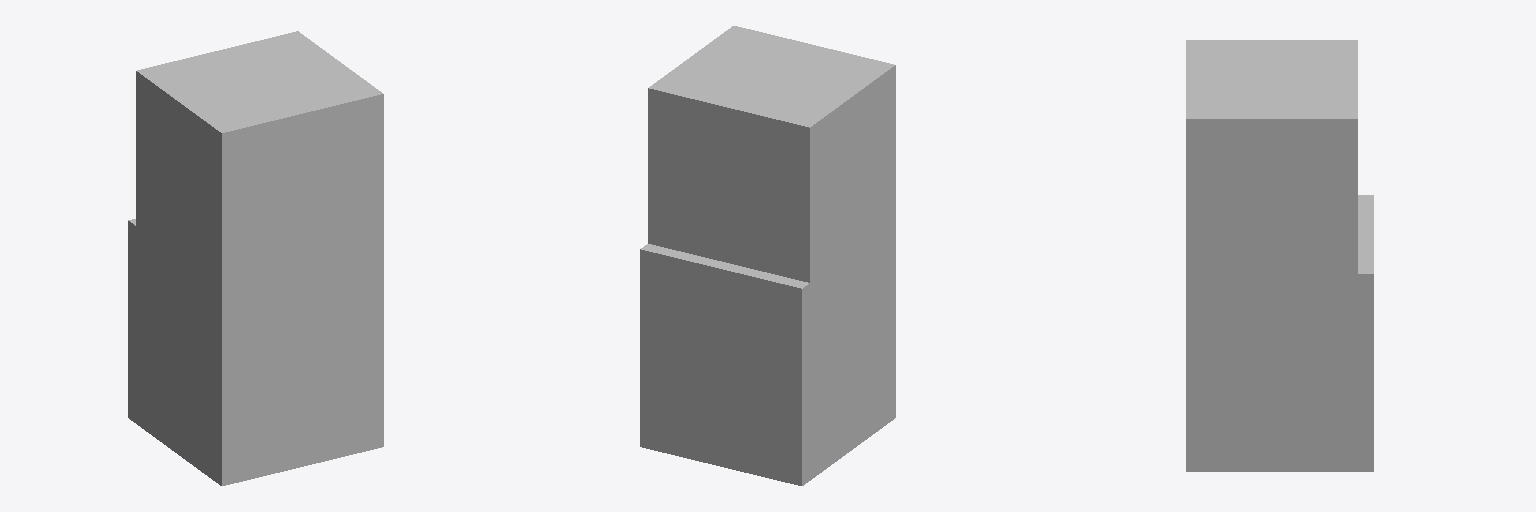
The model's file is small cabine.obj.
3 views of the same model, side by side, from view 1: azimuth 30°, elevation 25°; view 2: azimuth 150°, elevation 25°; view 3: azimuth 270°, elevation 25° (orthographic).
Visible parts, largest first — view 1: object 1; view 2: object 1; view 3: object 1.
Boxes of the visible parts, x1=… form: object 1: x1=128, y1=31, x2=383, y2=485; object 1: x1=640, y1=26, x2=895, y2=485; object 1: x1=1186, y1=40, x2=1373, y2=471.
Bounding box in the file's own units: 1.2 × 2.5 × 1.2.